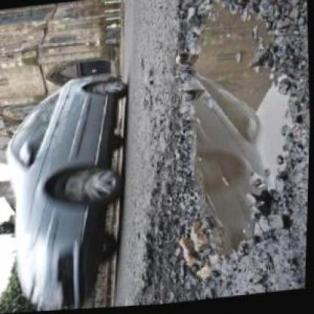Hueco: (149, 0, 308, 276)
